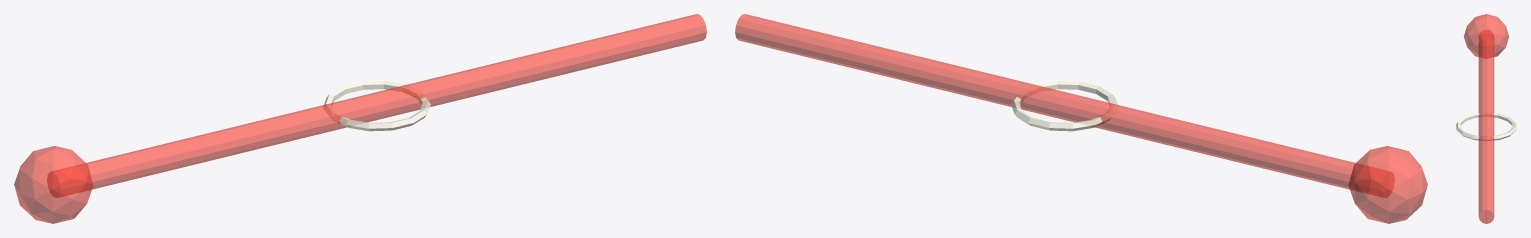
Rendered from vfx_beam_laser_red.glb.
3 renders of one model, left to right at view 1: azimuth 30°, elevation 25°; view 2: azimuth 150°, elevation 25°; view 3: azimuth 270°, elevation 25°, orthographic. The views are drawn at different scales.
Visible parts, largest first — view 1: beam_core, origin, ring; view 2: beam_core, origin, ring; view 3: beam_core, origin, ring.
Boxes of the visible parts, x1,y1,x2,y2 form: beam_core: [47, 14, 706, 197]; origin: [14, 146, 93, 223]; ring: [323, 81, 430, 131]; beam_core: [735, 14, 1394, 197]; origin: [1348, 146, 1427, 223]; ring: [1011, 81, 1118, 131]; beam_core: [1478, 30, 1494, 223]; origin: [1464, 14, 1508, 58]; ring: [1456, 112, 1516, 140].
Size of the model in its own units: 3.16 by 0.32 by 0.4251.
